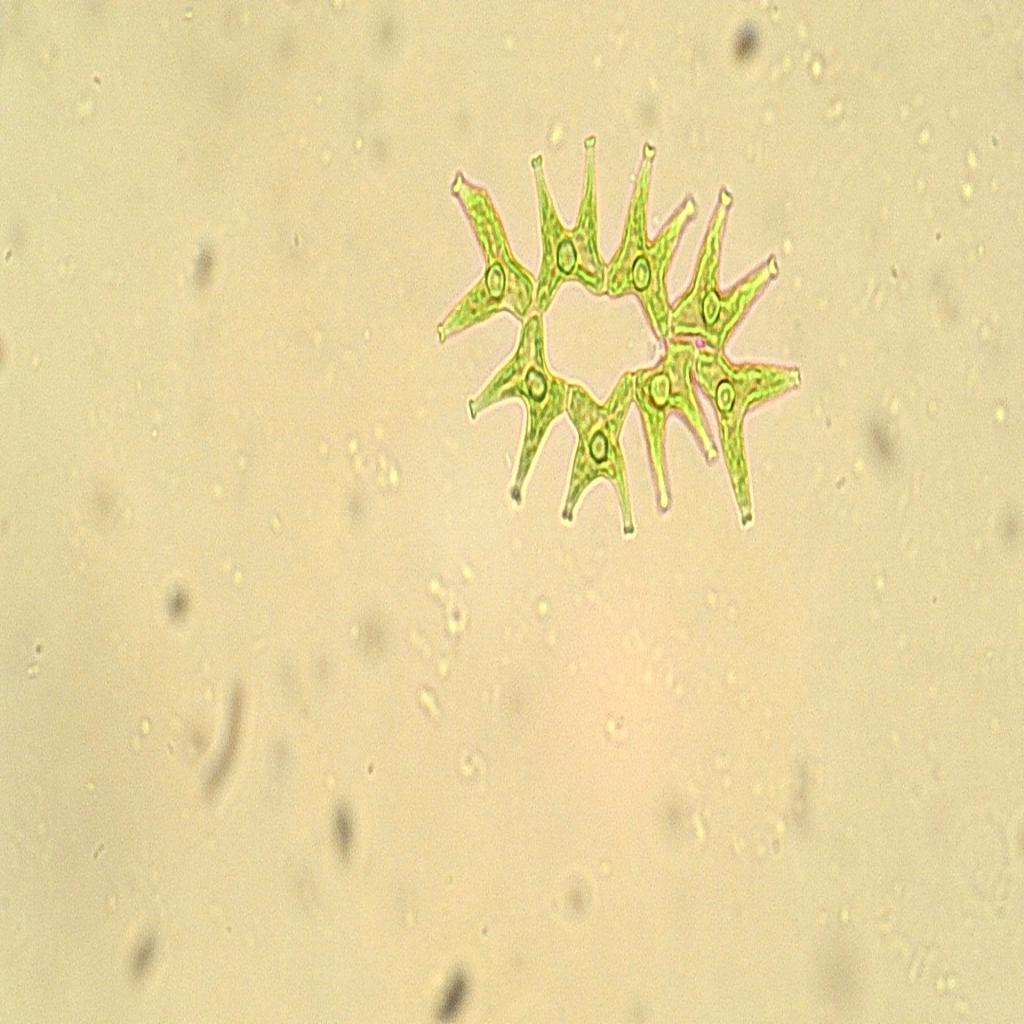Pediastrum_CFI: (422, 120, 808, 575)
